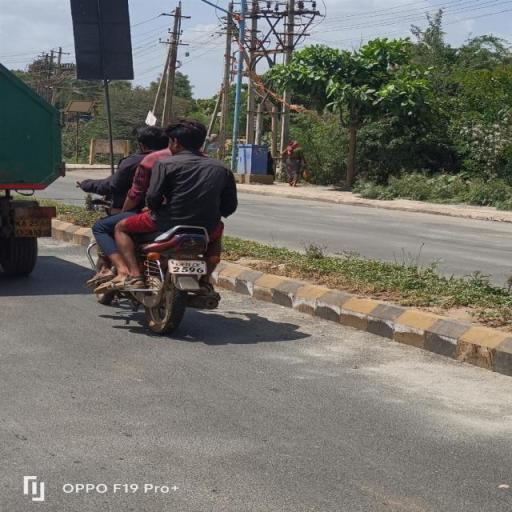tripple riding: (68, 118, 244, 224)
